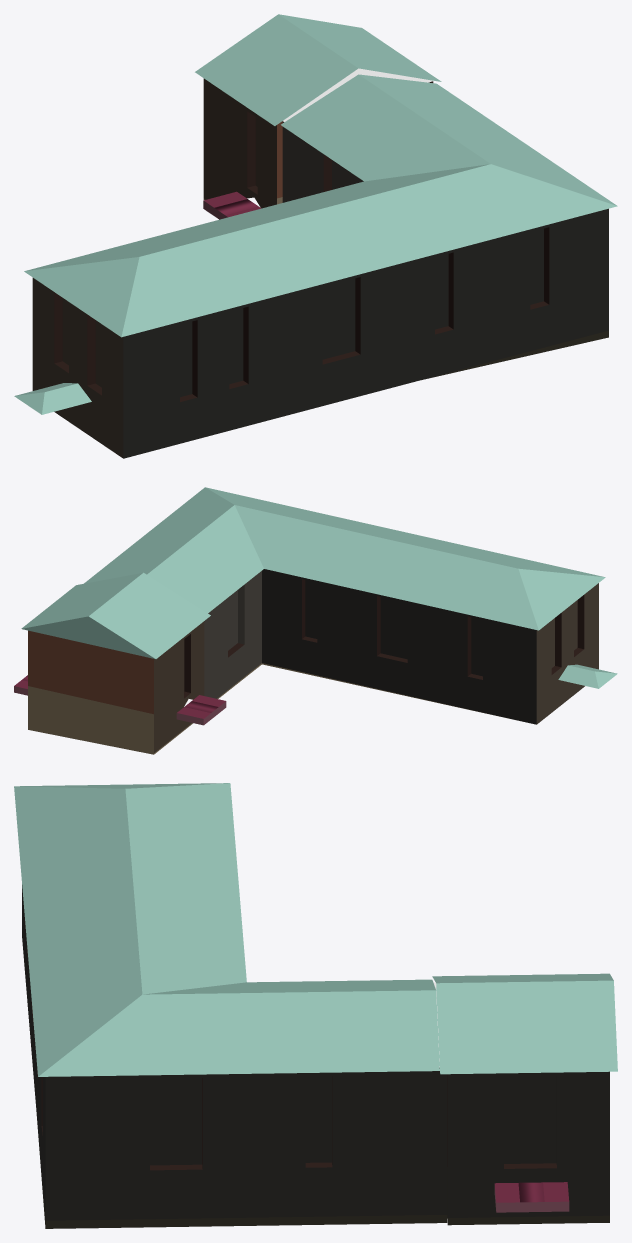
File: marriotts-residence-inn.glb
3 views of the same model, one above another, from view 1: azimuth 30°, elevation 25°; view 2: azimuth 150°, elevation 25°; view 3: azimuth 270°, elevation 25° (orthographic). The views are drawn at different scales.
Visible parts, largest first — view 1: LOD0; view 2: LOD0; view 3: LOD0.
Part boxes in pixels (x1,y1,x2,y2): LOD0: [14, 14, 617, 458]; LOD0: [14, 487, 617, 754]; LOD0: [14, 783, 617, 1228].
Size of what is drawn, in the model's own units: 61.88 by 17.17 by 47.61.
2 materials, 2 textured.
